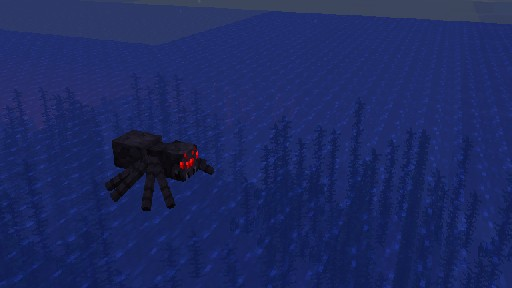spider: (103, 128, 214, 211)
